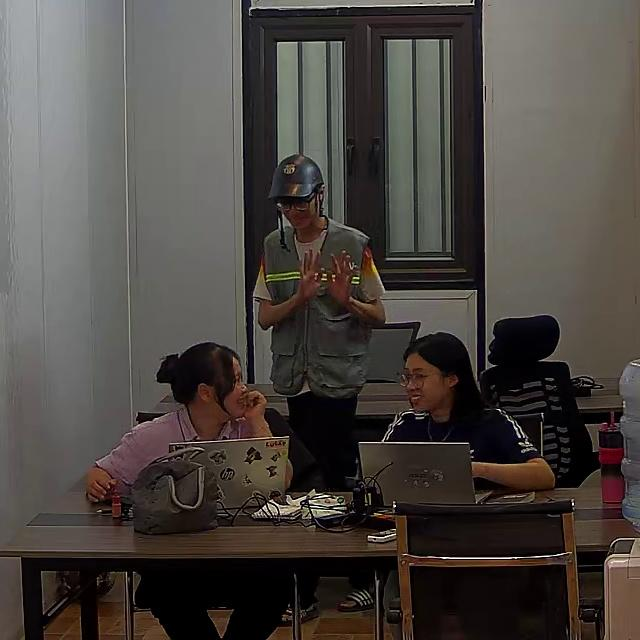helmet: (267, 153, 325, 201)
no_helmet: (403, 332, 483, 418), (164, 342, 239, 406)
none: (94, 407, 246, 497), (379, 402, 543, 484)
vest: (254, 220, 381, 398)
